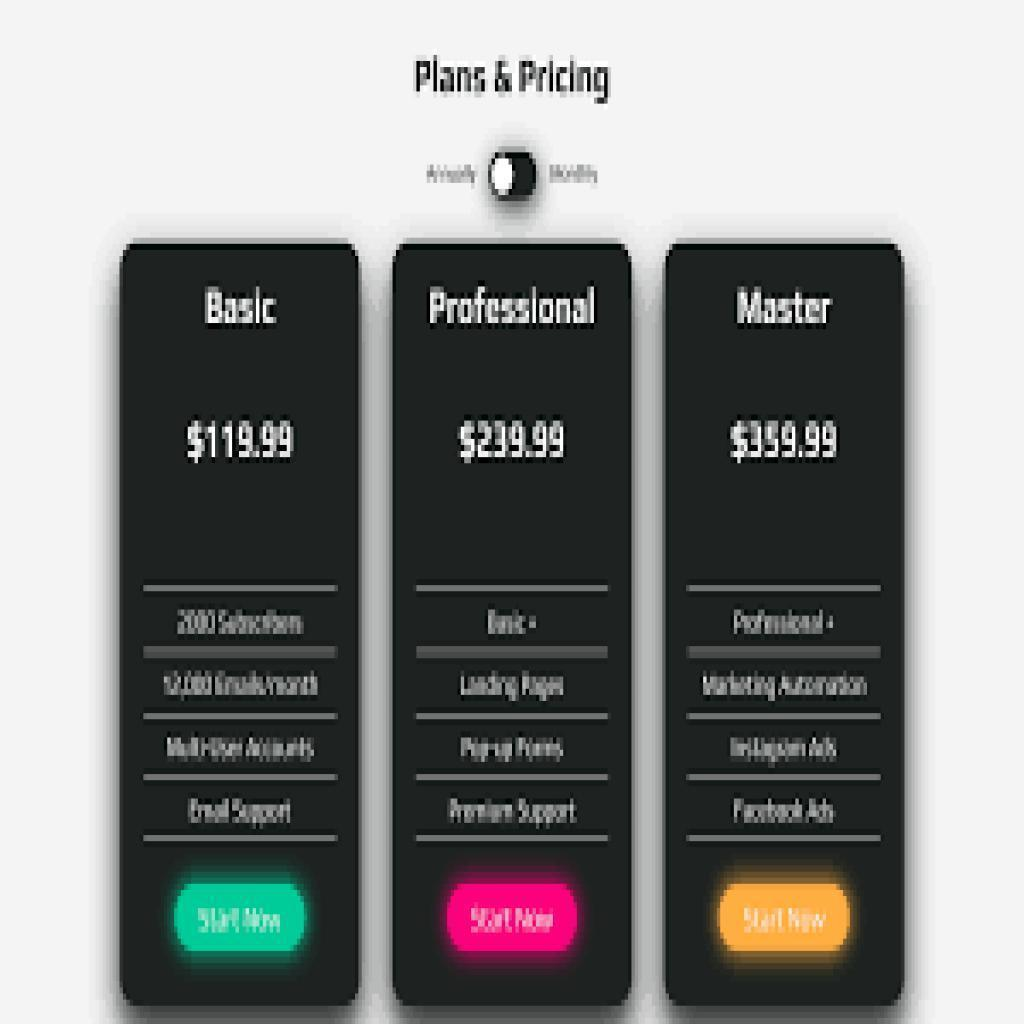button: (714, 882, 853, 955), (445, 883, 580, 958), (175, 879, 308, 954)
switch: (484, 141, 542, 211)
